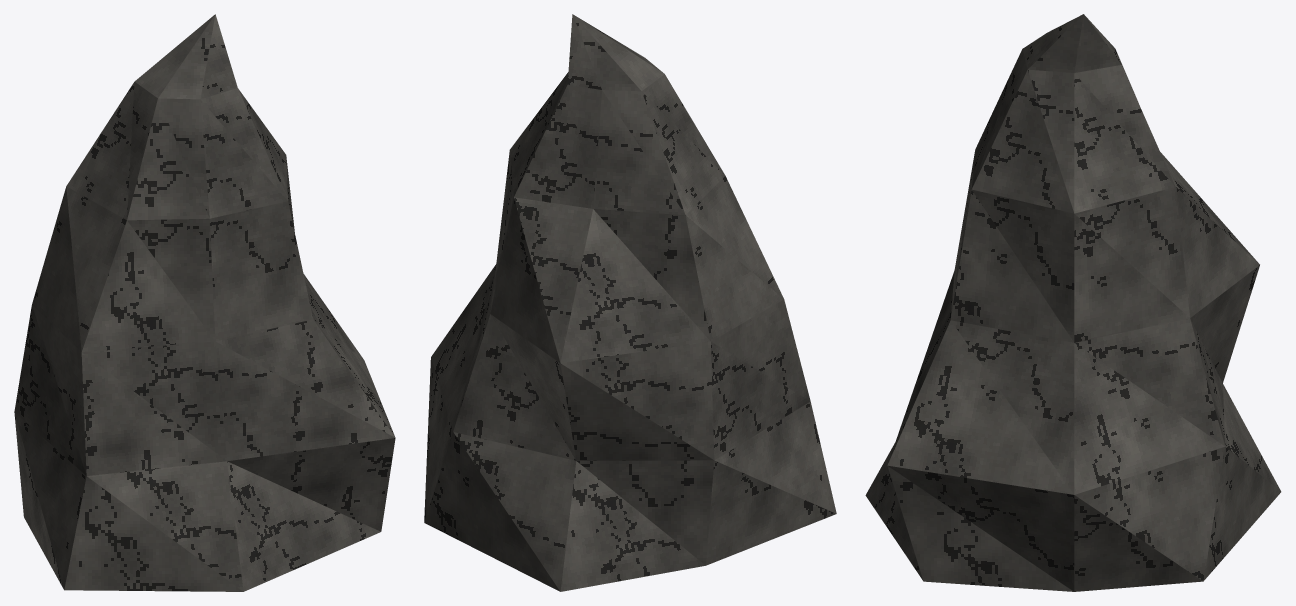
Rendered from cliff_a.glb.
3 views of the same model, side by side, from view 1: azimuth 30°, elevation 25°; view 2: azimuth 150°, elevation 25°; view 3: azimuth 270°, elevation 25° (orthographic). The views are drawn at different scales.
Visible parts, largest first — view 1: rock-col; view 2: rock-col; view 3: rock-col.
Part boxes in pixels (bbox=[...]): rock-col: bbox=[14, 14, 395, 591]; rock-col: bbox=[424, 14, 836, 591]; rock-col: bbox=[865, 14, 1281, 591].
Size of the model in its own units: 11.86 by 15.66 by 11.35.
Materials: 1 (1 with a texture image).
